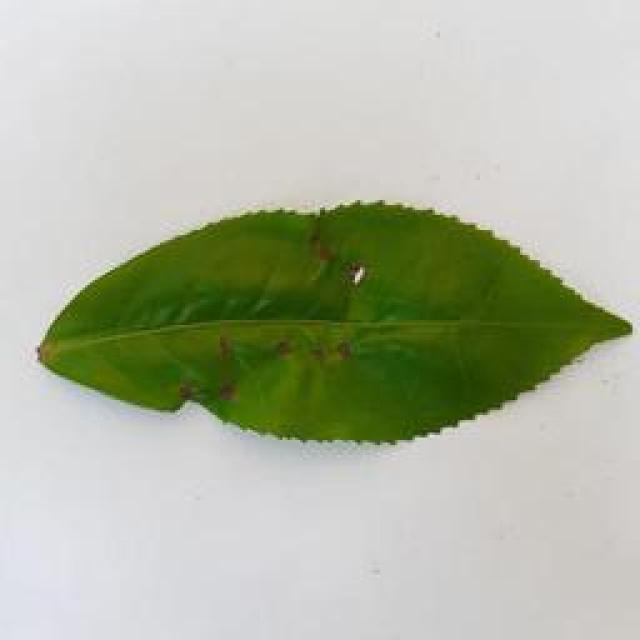Helopeltis: (0, 185, 640, 450)
